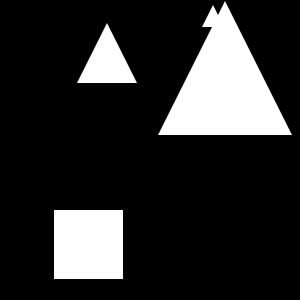circle: (54, 210, 123, 279)
triangle: (158, 1, 292, 135), (77, 23, 137, 83), (196, 72, 254, 130), (202, 5, 224, 27)
